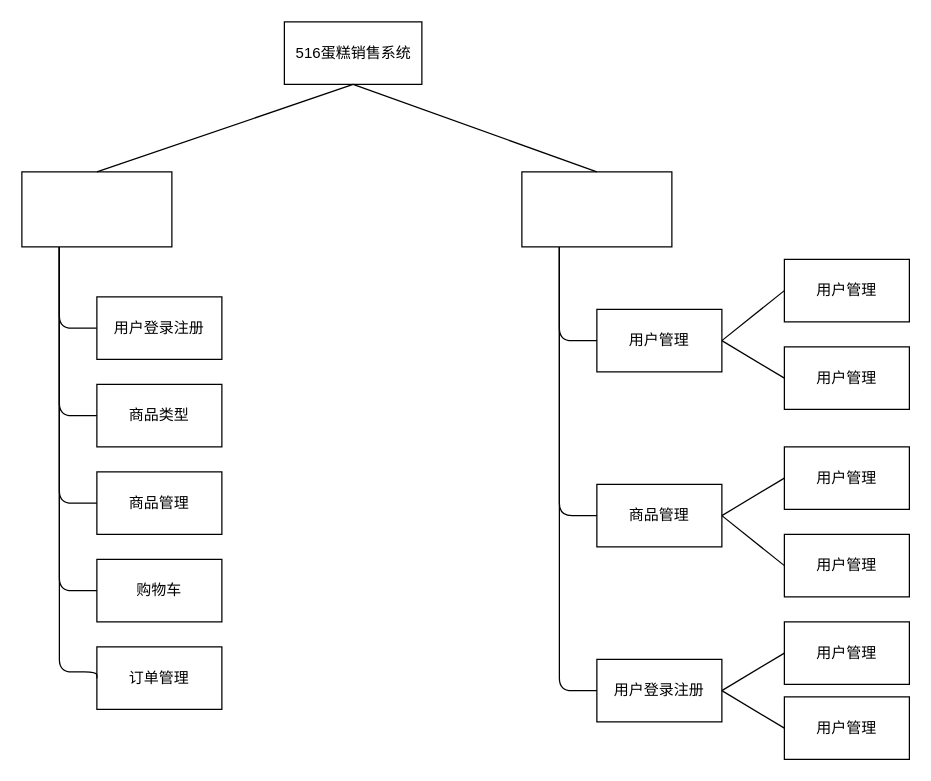
This 931x781 diagram has some shape labels left out. Here are the shapes that lost their labels. From the top down, the centre of each, then its label:
At pixel 96 209: "前台功能模块".
At pixel 596 209: "后台功能模块".
